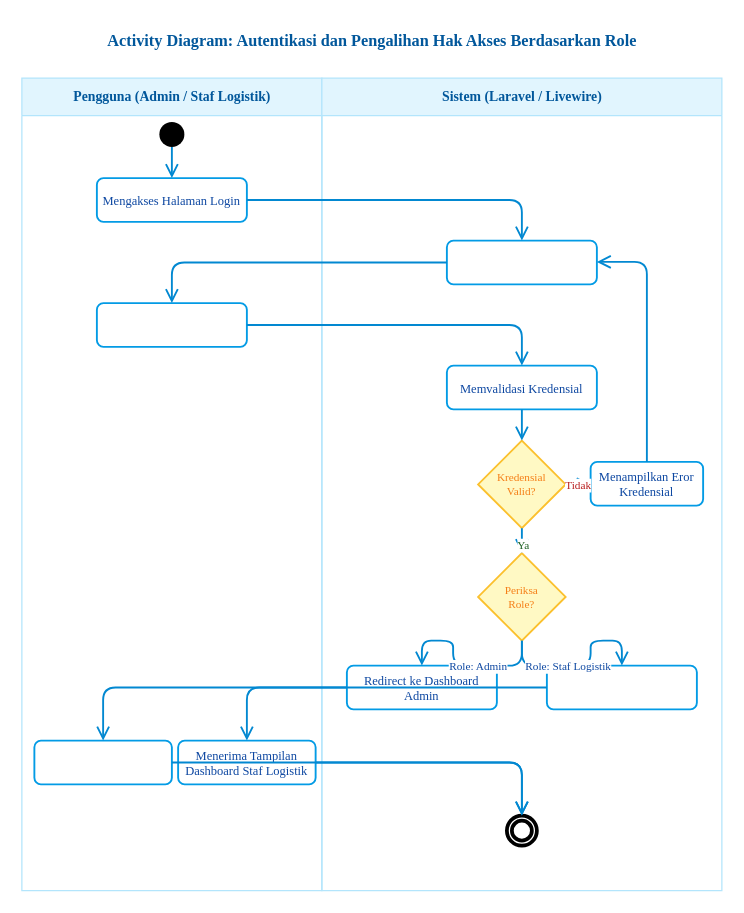
Some shapes in this 744 by 913 pixel diagram are drawn without their labels. The shapes that lost their labels are listed below. From the top down, each one's centre as x and y in pixels, then its label:
(x=521, y=262): Menampilkan Halaman Login
(x=171, y=324): Memasukkan Email & Password
(x=621, y=687): Redirect ke Dashboard Logistik
(x=102, y=762): Menerima Tampilan Dashboard Admin
